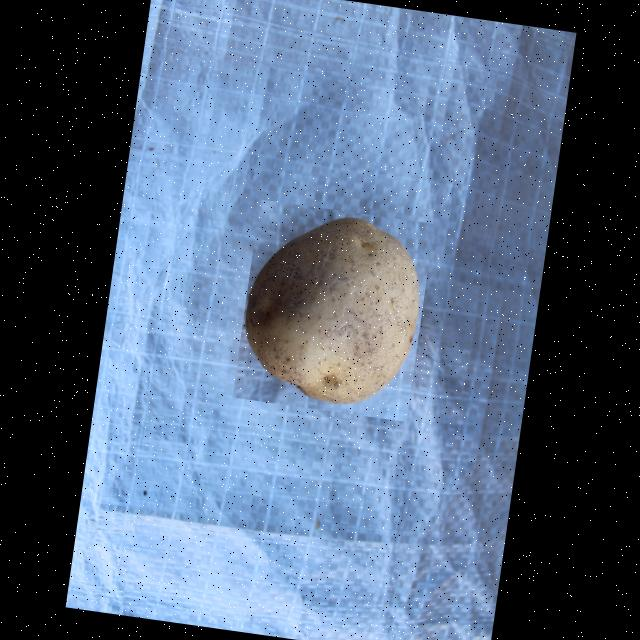Diseased-fungal potato: (232, 199, 434, 422)
